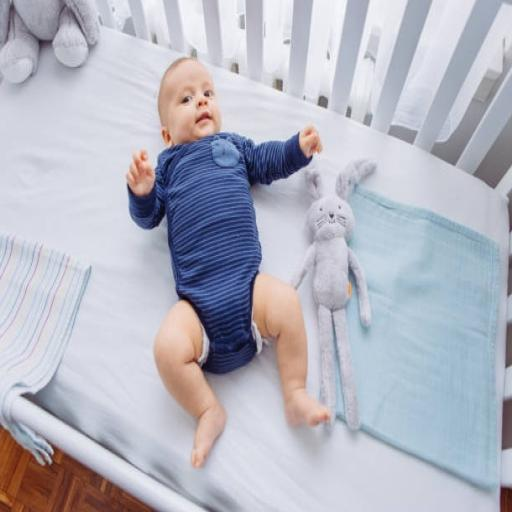baby: (127, 59, 329, 466)
crib: (0, 0, 511, 510)
